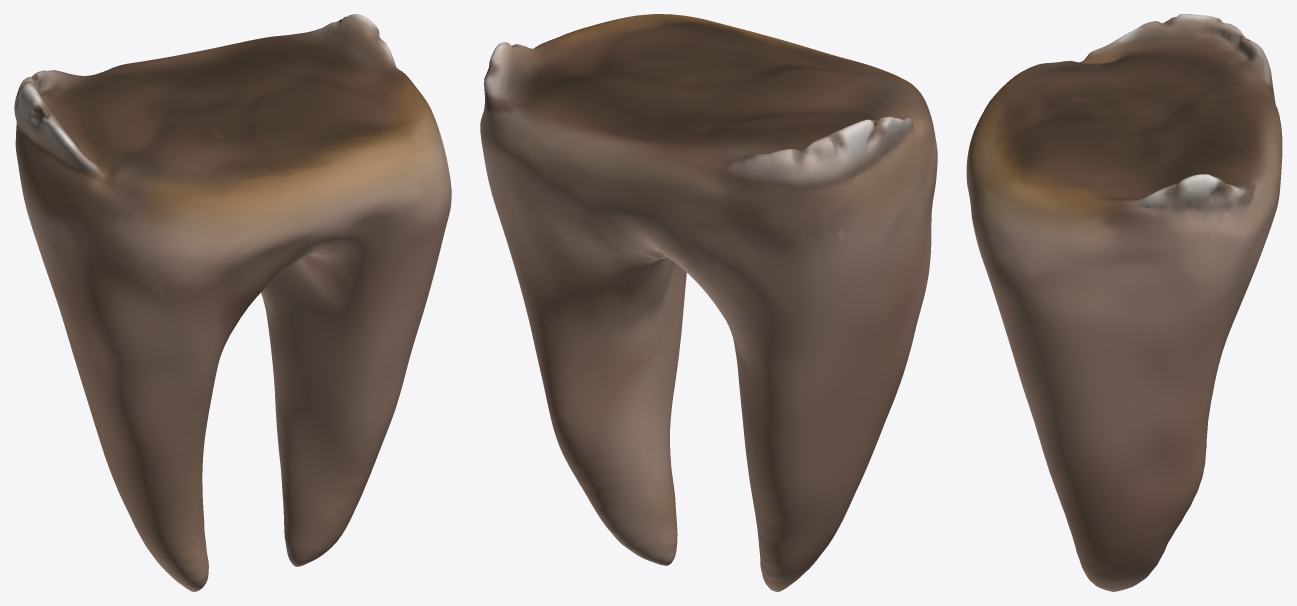
Rendered from ModelSisaAkarRevisi.fbx.
3 renders of one model, left to right at view 1: azimuth 30°, elevation 25°; view 2: azimuth 150°, elevation 25°; view 3: azimuth 270°, elevation 25°, orthographic. The views are drawn at different scales.
Visible parts, largest first — view 1: SisaAkar; view 2: SisaAkar; view 3: SisaAkar.
Part boxes in pixels (x1=…): SisaAkar: x1=14, y1=14, x2=451, y2=591; SisaAkar: x1=480, y1=14, x2=937, y2=591; SisaAkar: x1=966, y1=14, x2=1282, y2=591.
Size of the model in its own units: 1.15 by 1.53 by 0.9253.
Materials: 1 (1 with a texture image).
